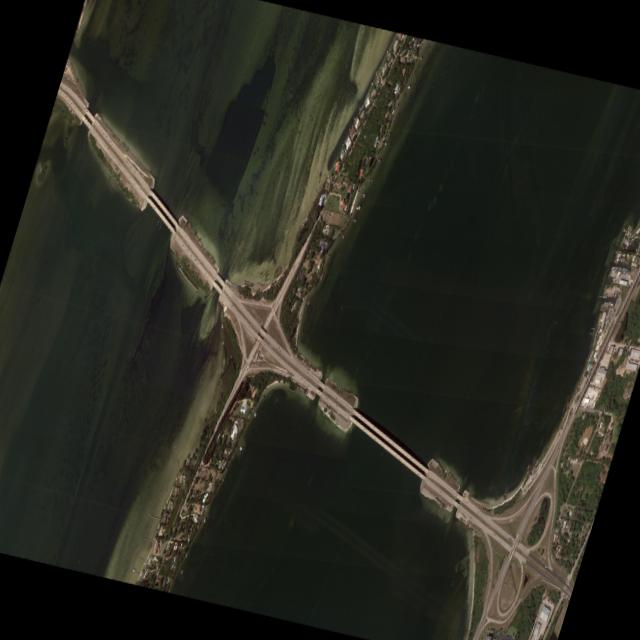ship: (622, 270, 624, 274), (613, 293, 615, 297), (611, 291, 613, 295), (613, 292, 615, 296), (611, 265, 612, 269), (610, 266, 611, 269), (612, 265, 613, 268), (605, 301, 606, 304), (603, 300, 604, 303), (622, 266, 623, 269), (616, 265, 617, 268), (615, 265, 616, 268), (614, 265, 615, 268), (613, 265, 614, 268), (606, 301, 607, 303), (604, 301, 605, 303), (622, 267, 623, 269), (621, 267, 622, 269), (618, 266, 619, 268), (617, 266, 618, 268), (613, 265, 613, 269), (623, 267, 623, 269), (619, 266, 619, 269), (618, 266, 618, 268), (615, 265, 615, 268)
